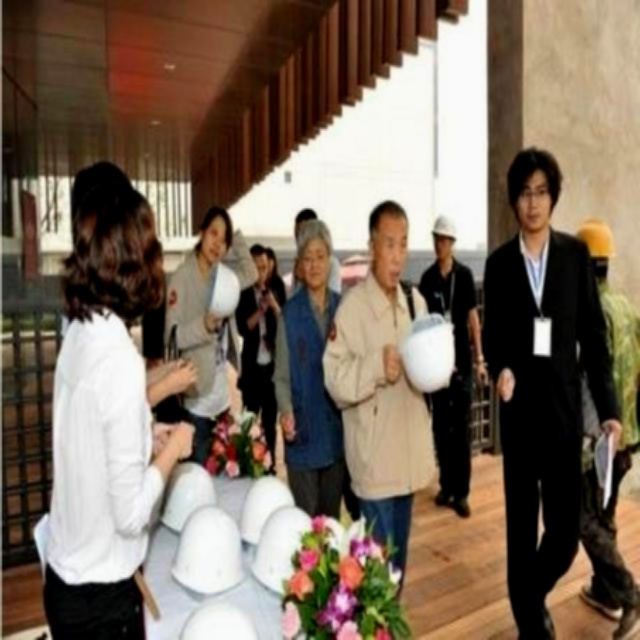Sin_Casco_Mascarrilla: (370, 200, 409, 286)
Sin_Chaleco: (489, 228, 585, 445)
